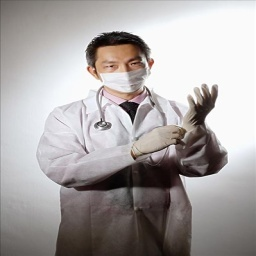correctlyWear: (86, 53, 154, 93)
